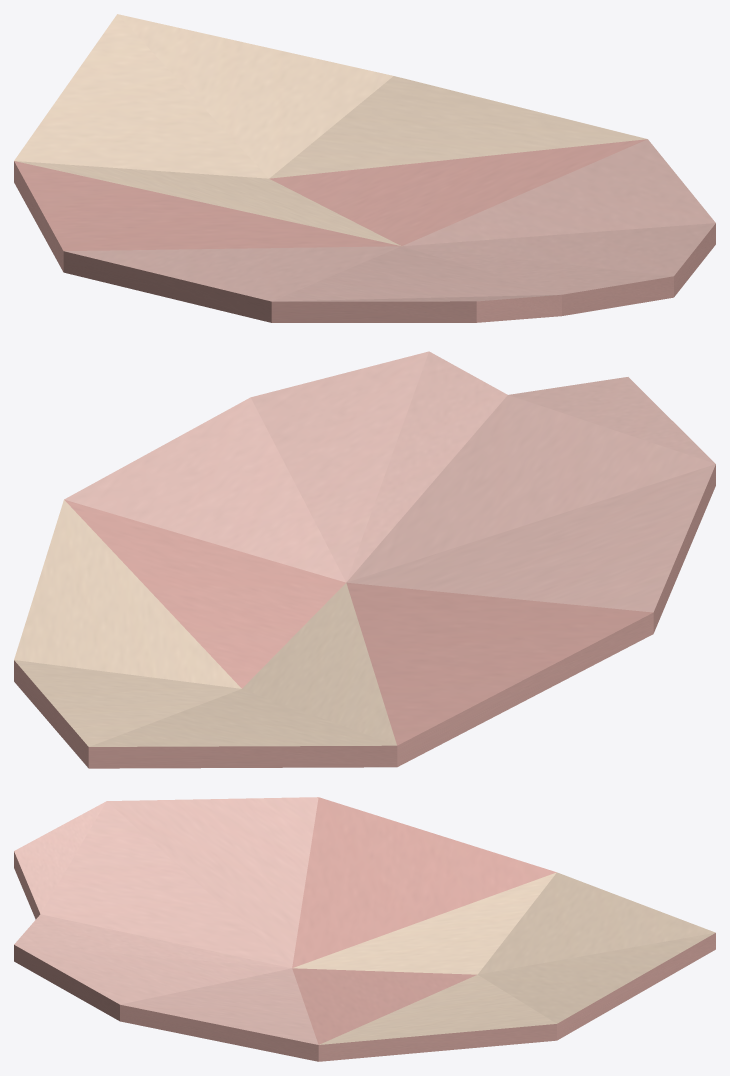
The model's file is 08_floating_petal_B.obj.
3 renders of one model, top to bottom at view 1: azimuth 30°, elevation 25°; view 2: azimuth 150°, elevation 25°; view 3: azimuth 270°, elevation 25°, orthographic. The views are drawn at different scales.
Parts seen in each view (by area): view 1: Floating_Petal_B; view 2: Floating_Petal_B; view 3: Floating_Petal_B.
Part boxes in pixels (left/top/right/bottom): Floating_Petal_B: left=14, top=14, right=715, bottom=322; Floating_Petal_B: left=14, top=351, right=715, bottom=768; Floating_Petal_B: left=14, top=797, right=715, bottom=1061.
Bounding box in the file's own units: 0.08 × 0.0178 × 0.106.
Materials: 1 (1 with a texture image).
